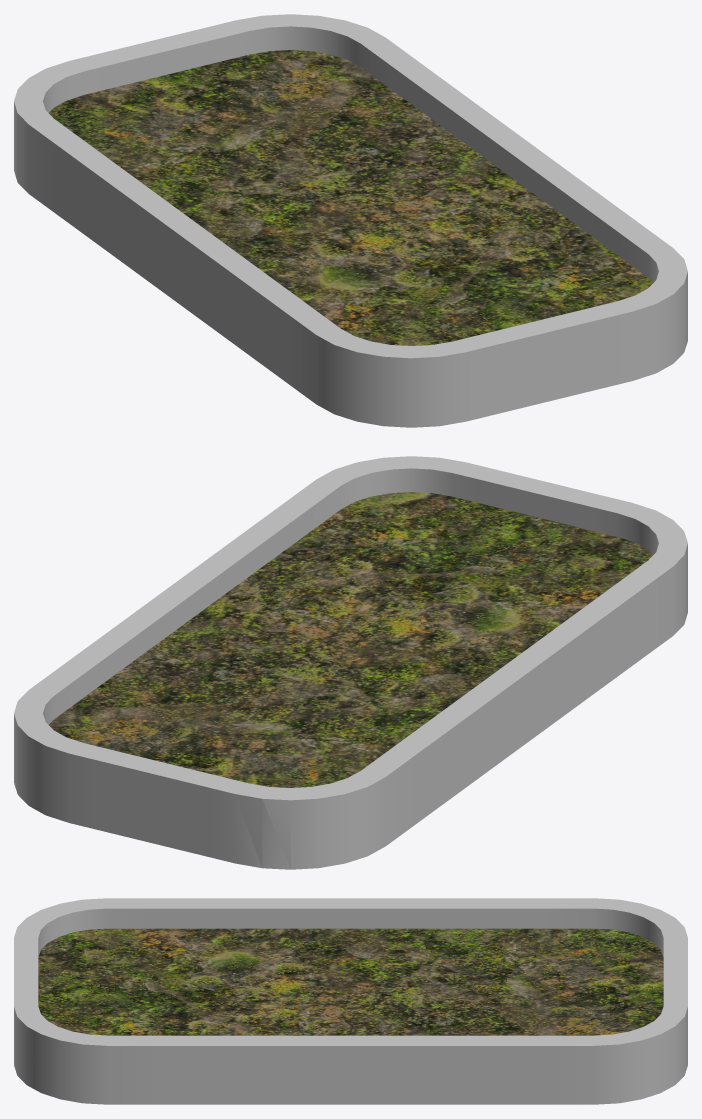
File: Planter_Square_4x2_01.FBX
The picture shows the model from 3 angles, top to bottom: view 1: azimuth 30°, elevation 25°; view 2: azimuth 150°, elevation 25°; view 3: azimuth 270°, elevation 25°; orthographic projection. The views are drawn at different scales.
Visible parts, largest first — view 1: Planter_Square_4x2_01; view 2: Planter_Square_4x2_01; view 3: Planter_Square_4x2_01.
Boxes of the visible parts, x1,y1,x2,y2 form: Planter_Square_4x2_01: [14, 14, 687, 427]; Planter_Square_4x2_01: [14, 456, 687, 869]; Planter_Square_4x2_01: [14, 898, 687, 1104].
Bounding box in the file's own units: 2.15 × 0.4 × 4.15.
